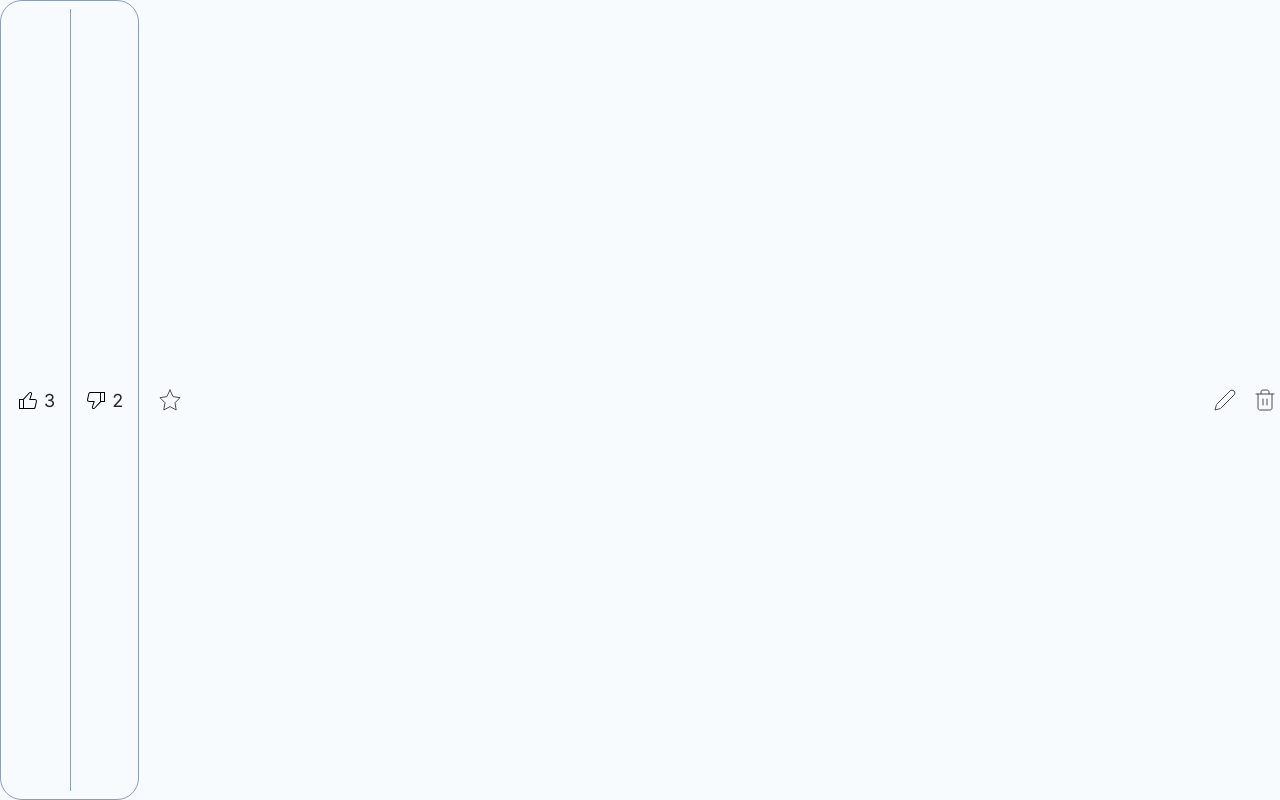
Test: PostControls › should show modalManage if clicked on pencil icon
The width and height of the screenshot is (1280, 800).
Click the picture with alt text "pencil" at (1225, 400), box [1210, 385, 1240, 415]
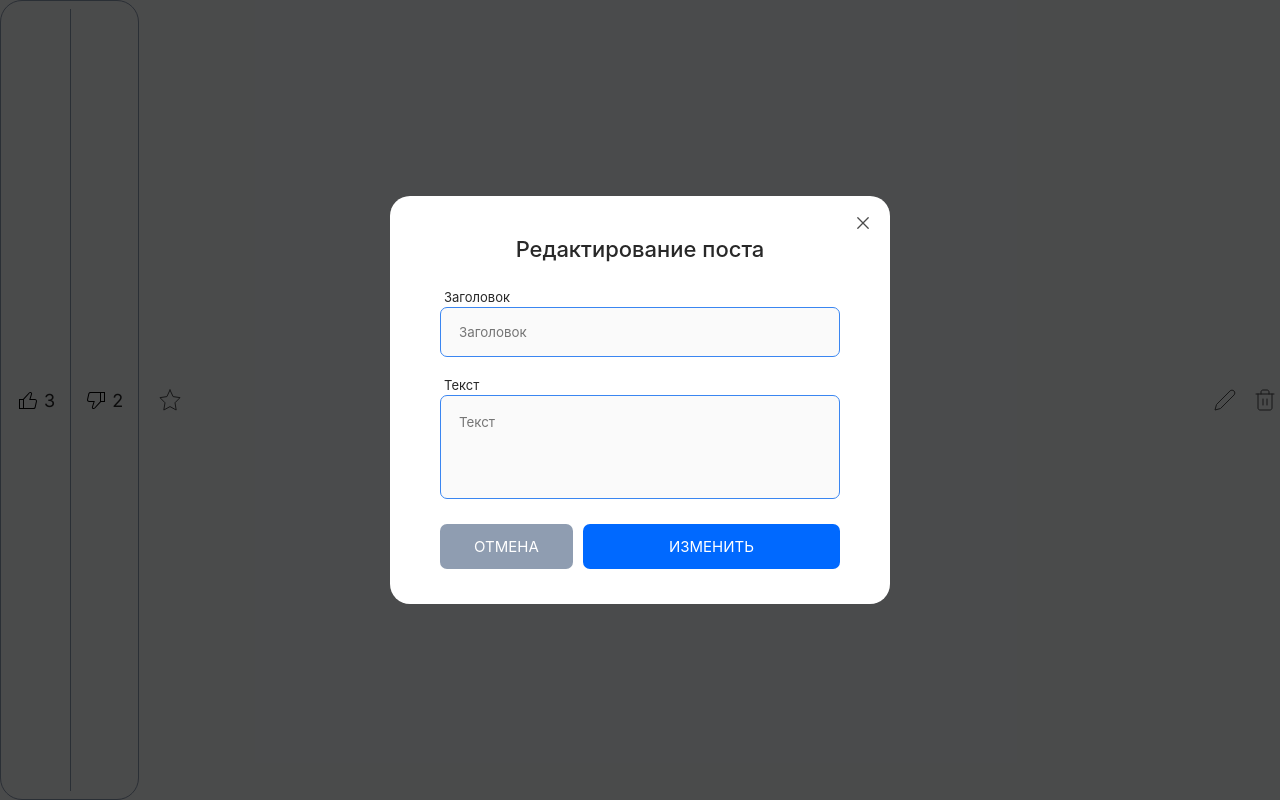
Expected: the form with test id "modalManage" is shown, [440, 236, 840, 569]
